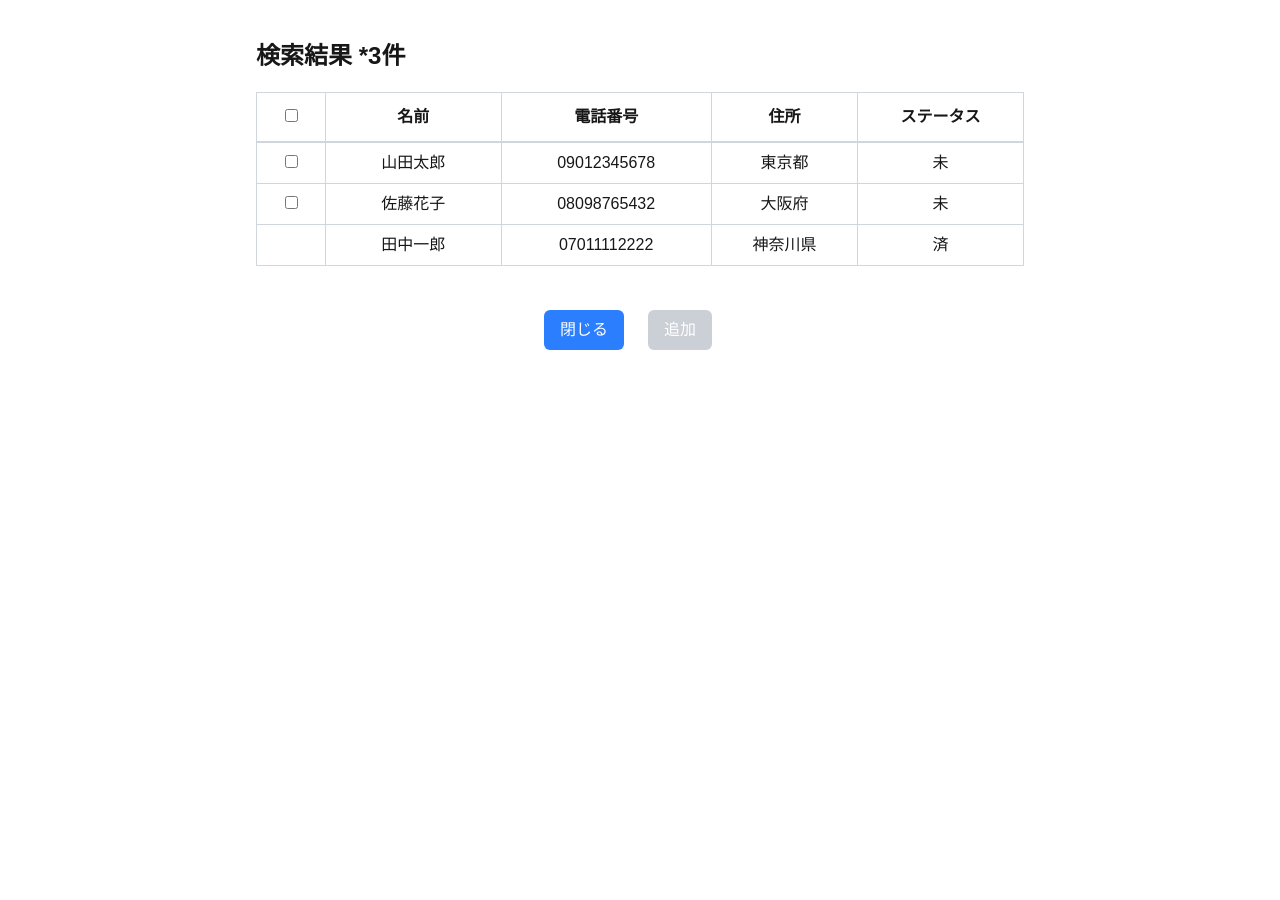
Test: UserListコンポーネント › 名前をクリックするとモーダルが開き、ユーザー詳細がセットされること
Click the button "山田太郎". click: (413, 163)
box: [342,151,485,175]
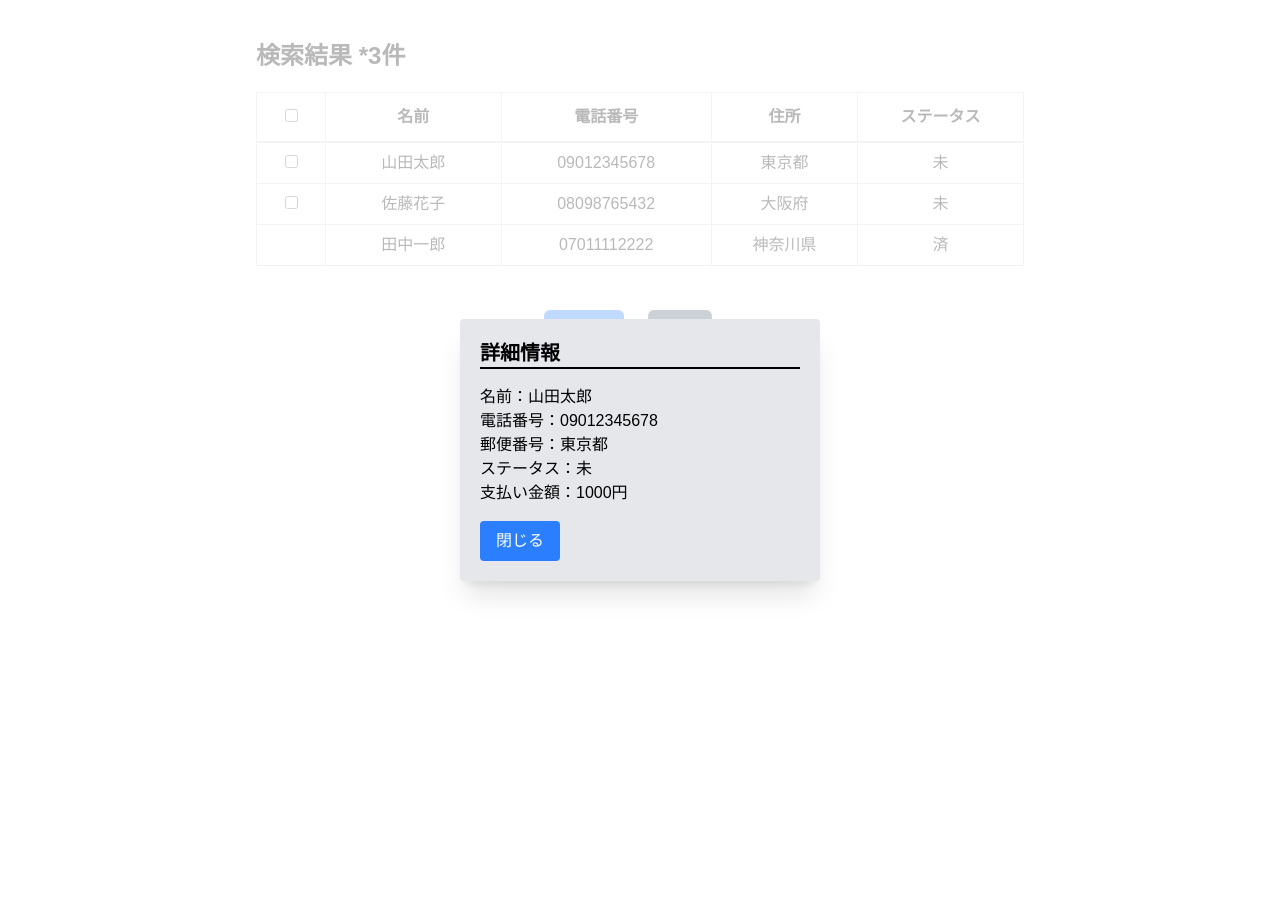
Expected: the heading "詳細情報" is shown, [480,339,800,369]
Expected: the list item "名前：山田太郎" is shown, [480,388,592,405]
